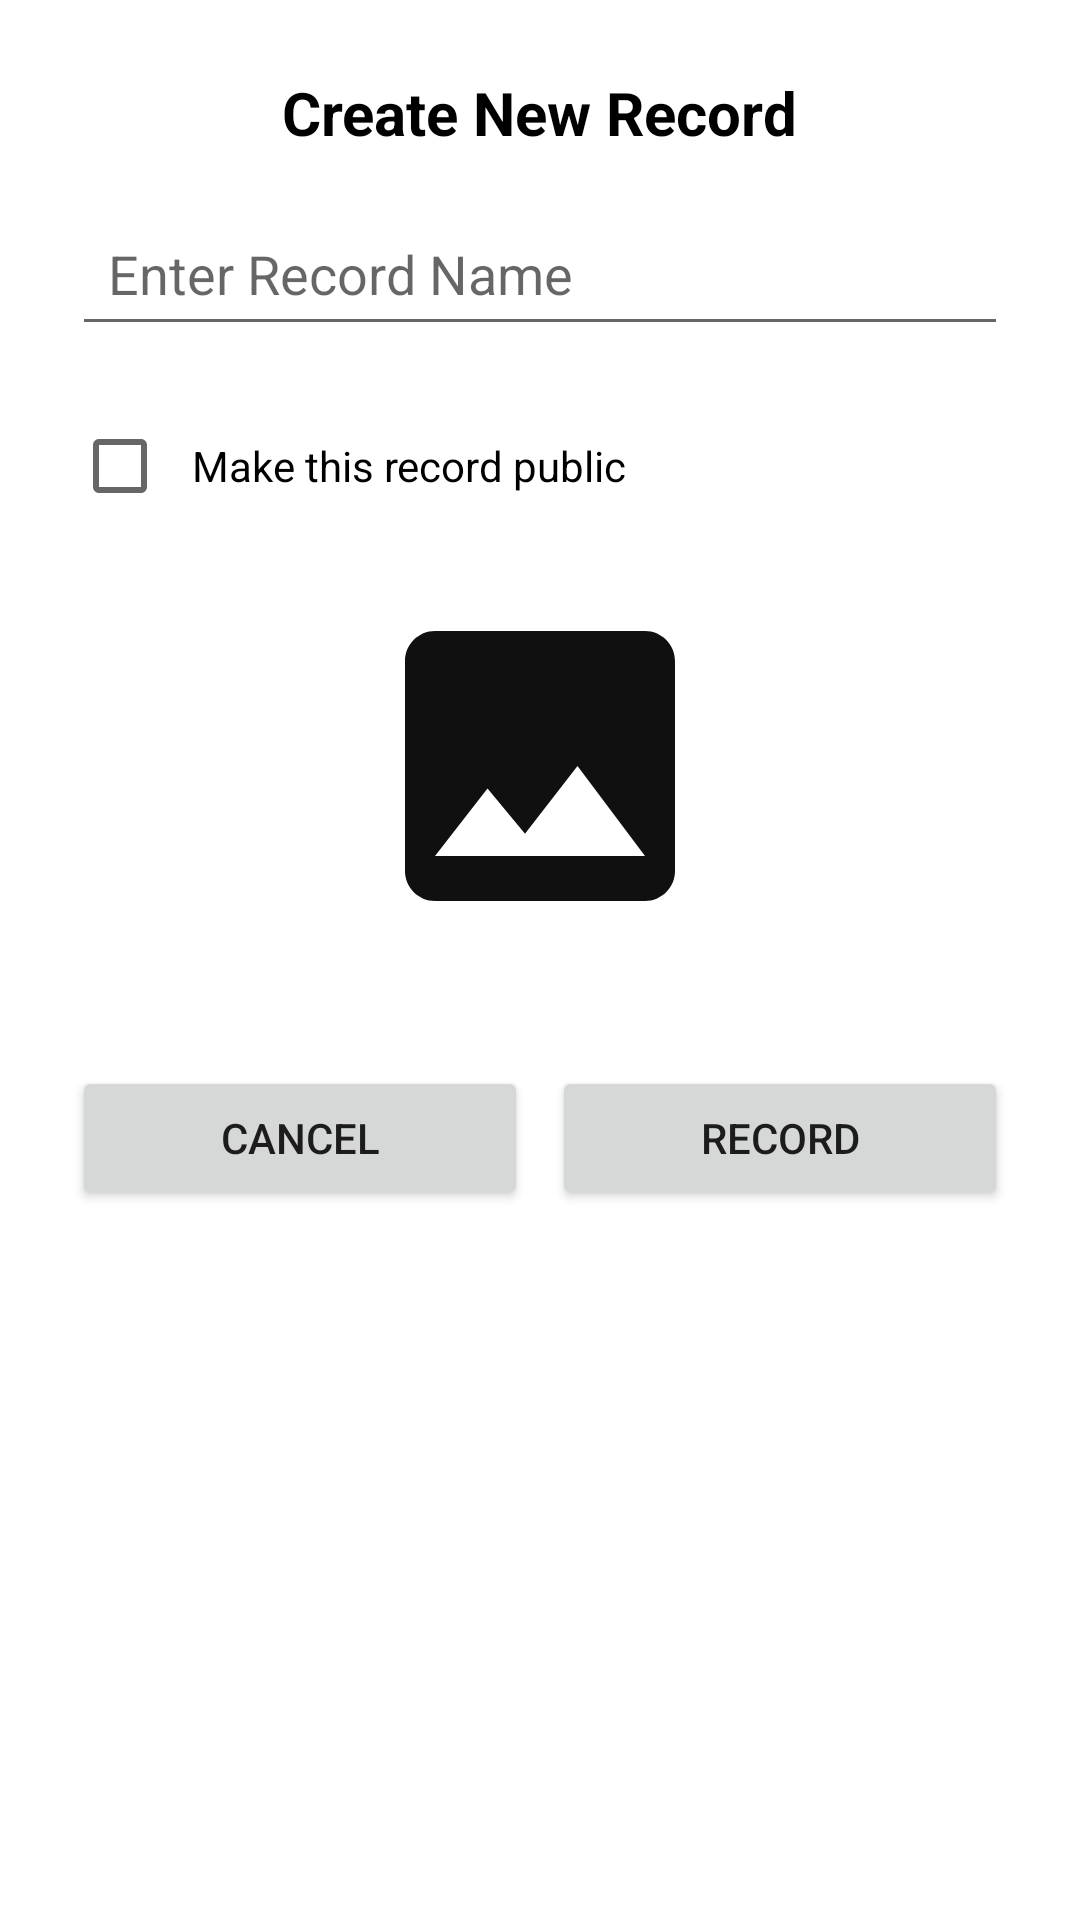

Named icons in this screenshot (1080×1920) and their bounding boxes, box(x1, y1, x2, y2):
Upload or Preview Image: box(405, 631, 675, 901)
